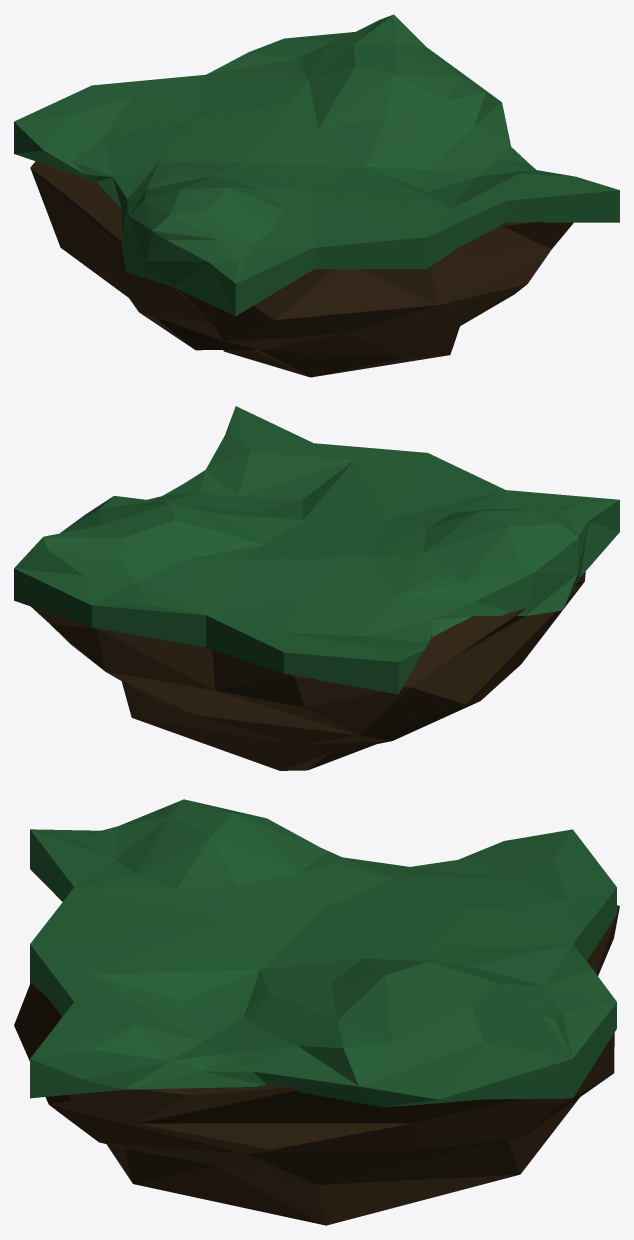
File: Area_Base1.fbx
3 views of the same model, one above another, from view 1: azimuth 30°, elevation 25°; view 2: azimuth 150°, elevation 25°; view 3: azimuth 270°, elevation 25° (orthographic). The views are drawn at different scales.
Parts seen in each view (by area): view 1: Area; view 2: Area; view 3: Area.
Part boxes in pixels (box(x1,y1,x2,y2)): Area: box(14, 14, 619, 377); Area: box(14, 406, 619, 770); Area: box(14, 799, 619, 1225).
Bounding box in the file's own units: 222 × 114 × 223.
